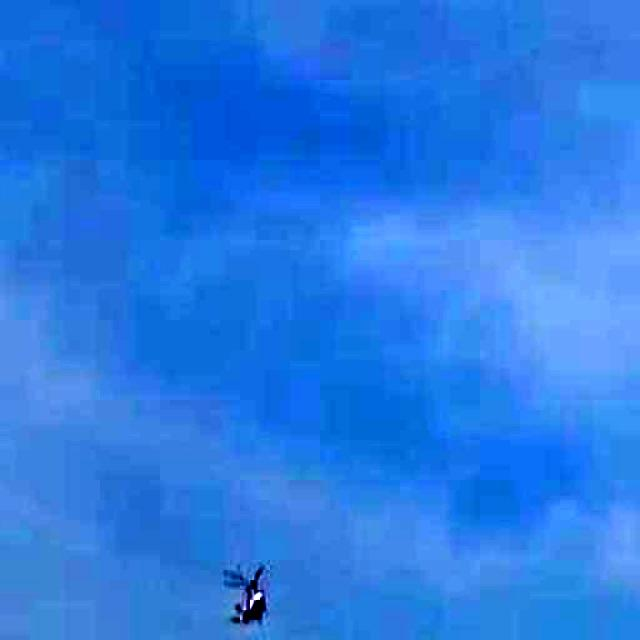drone: (206, 554, 292, 630)
